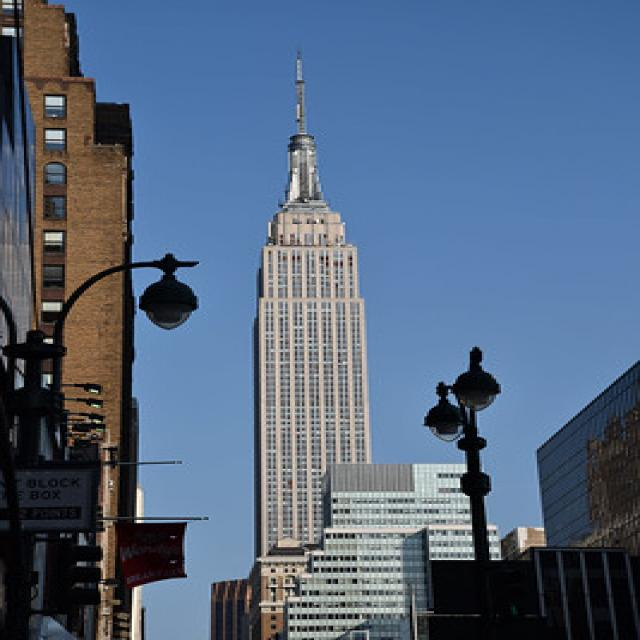Normal_building: (241, 133, 394, 629)
